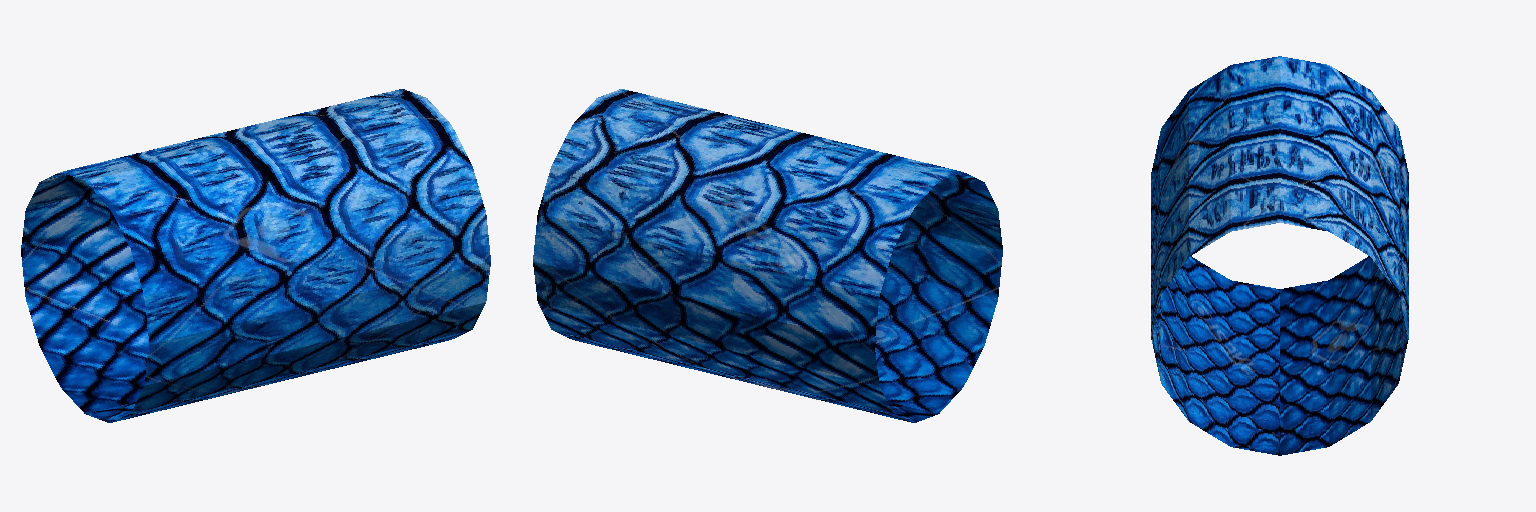
The picture shows the model from 3 angles: view 1: azimuth 30°, elevation 25°; view 2: azimuth 150°, elevation 25°; view 3: azimuth 270°, elevation 25°; orthographic projection.
Parts seen in each view (by area): view 1: SnakeBodyPart; view 2: SnakeBodyPart; view 3: SnakeBodyPart.
Boxes of the visible parts, box(x1,y1,x2,y2) form: SnakeBodyPart: box(21, 89, 490, 422); SnakeBodyPart: box(533, 89, 1002, 422); SnakeBodyPart: box(1151, 56, 1408, 455).
Bounding box in the file's own units: 0.9976 × 0.65 × 0.65.
1 materials, 1 textured.